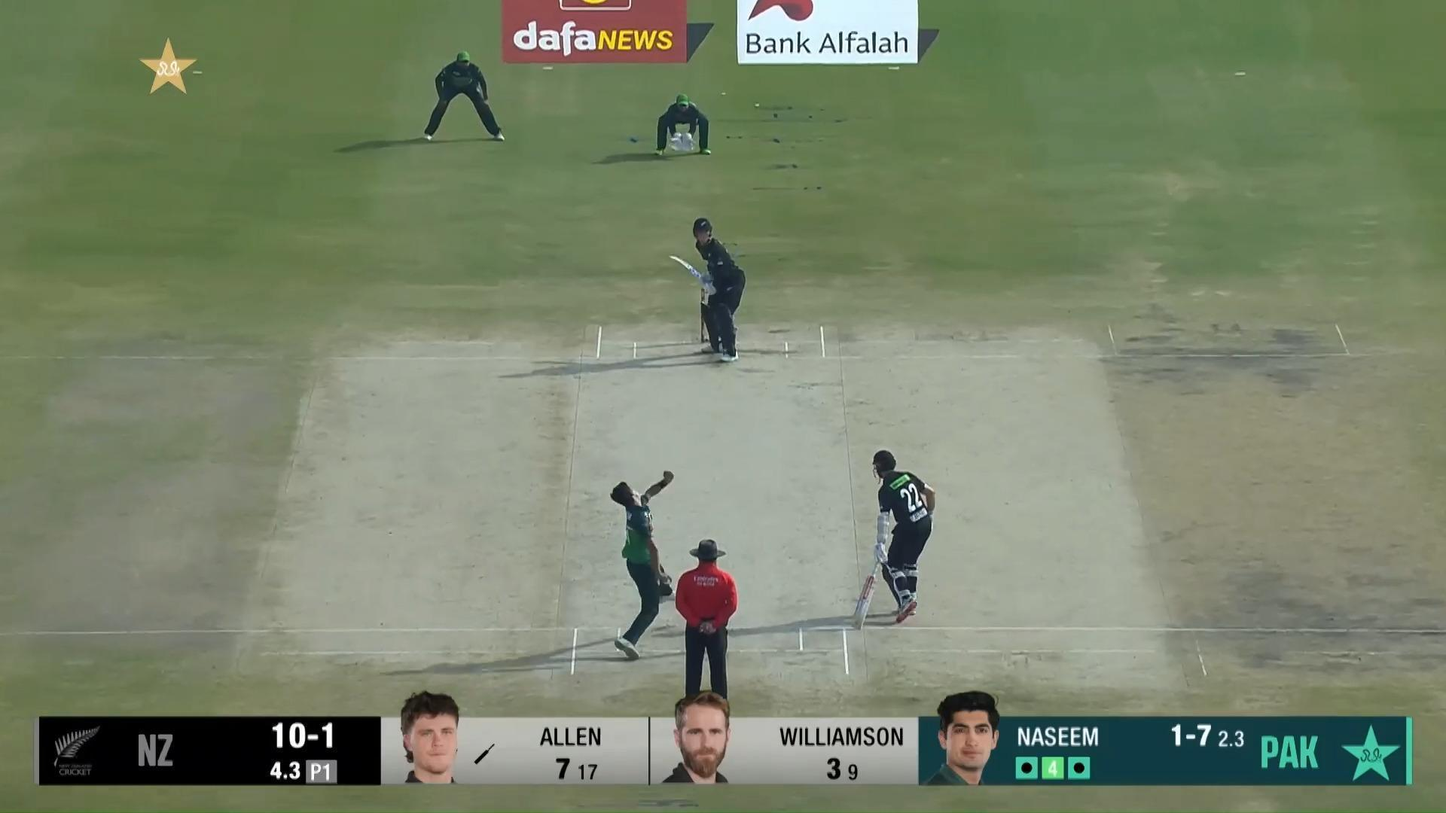BM 1: (667, 217, 746, 364)
BO: (610, 469, 677, 659)
